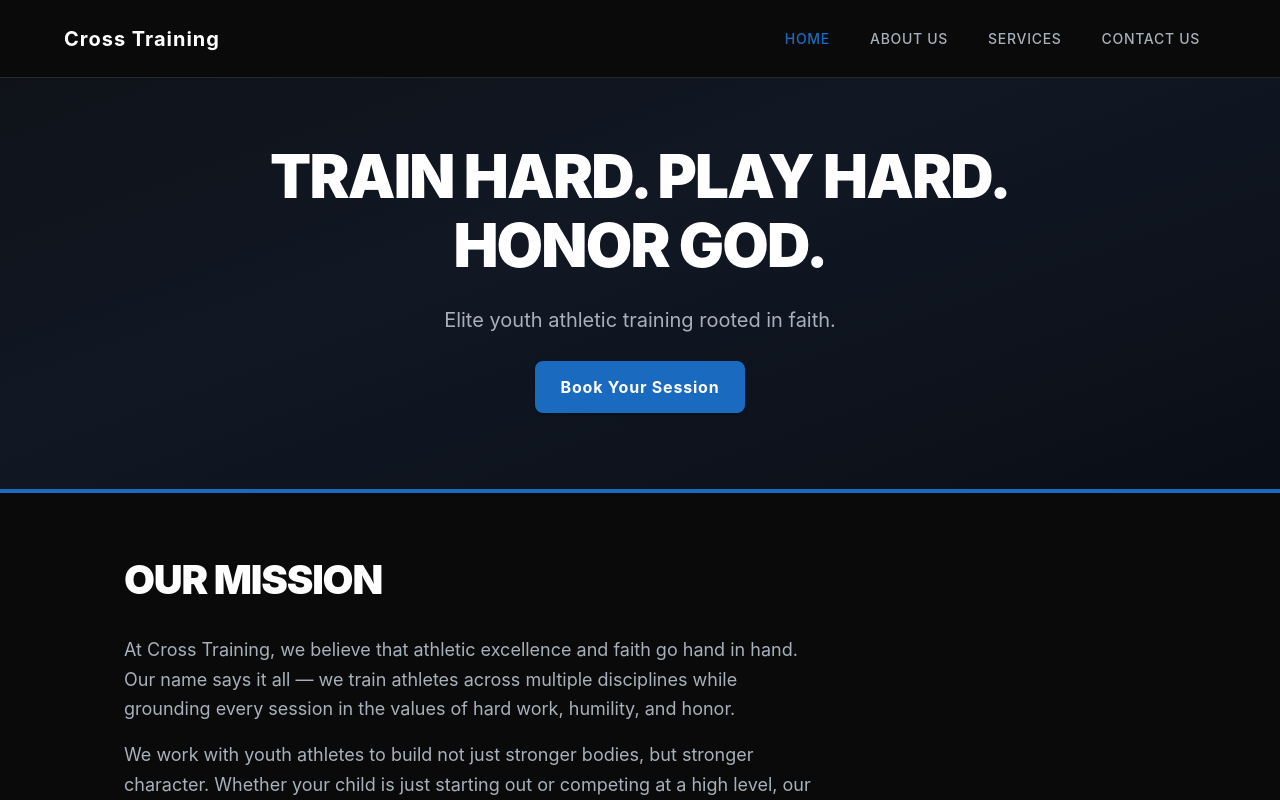
Test: App routing — integration › navigates to the About page when the "About Us" nav link is clicked
The image size is (1280, 800).
Click the link "About Us" at (909, 38), box [870,30,948,47]
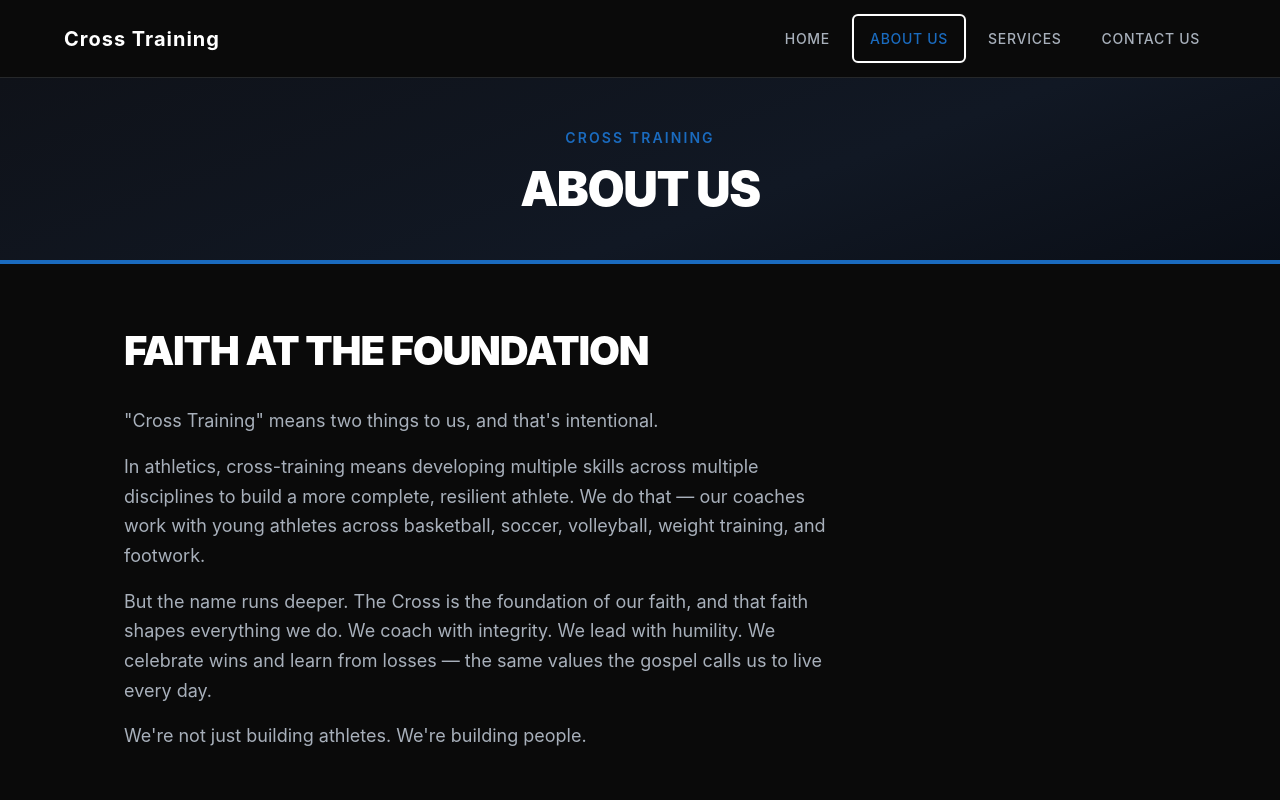
Expected: the heading "About Us" is shown, [520,159,760,218]
